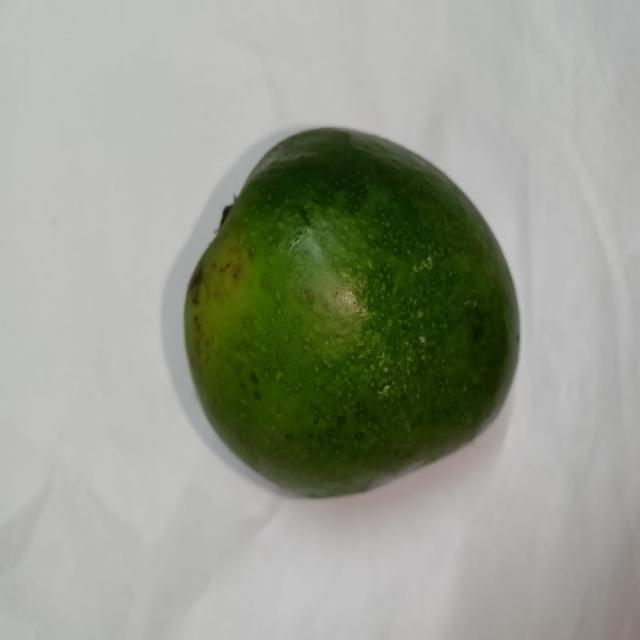rotten_mango: (180, 126, 520, 499)
